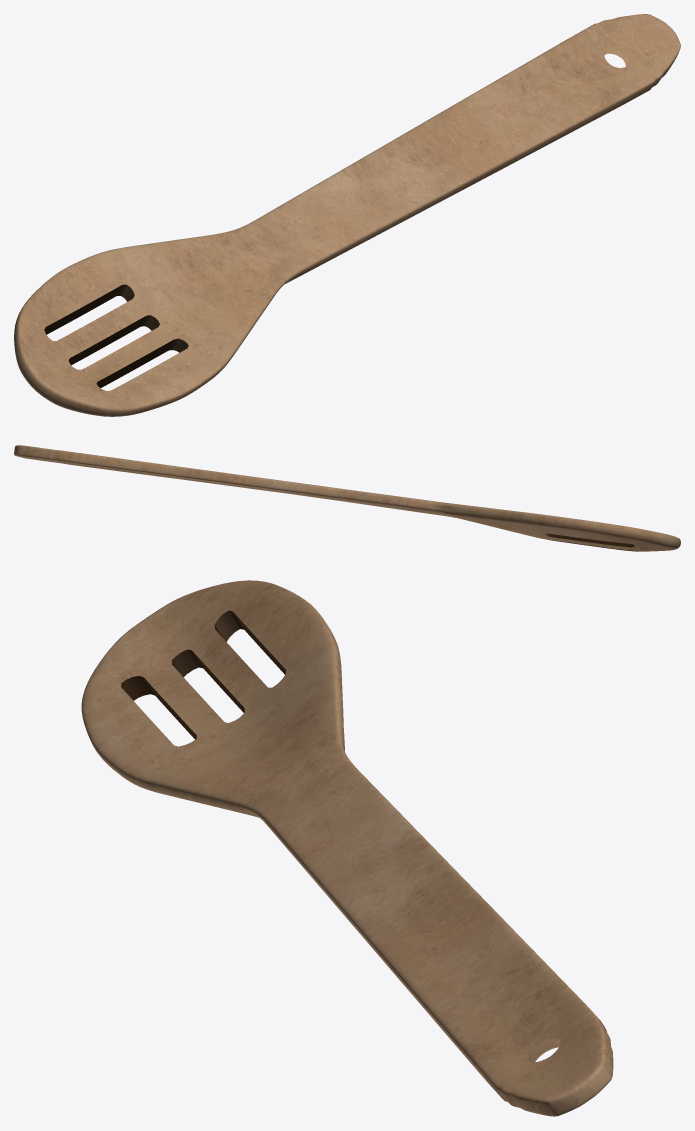
Rendered from wooden-spatula.glb.
3 renders of one model, top to bottom at view 1: azimuth 30°, elevation 25°; view 2: azimuth 150°, elevation 25°; view 3: azimuth 270°, elevation 25°, orthographic. The views are drawn at different scales.
Visible parts, largest first — view 1: SpatulaHoles_SpatulaHoles_0; view 2: SpatulaHoles_SpatulaHoles_0; view 3: SpatulaHoles_SpatulaHoles_0.
Boxes of the visible parts, x1=… form: SpatulaHoles_SpatulaHoles_0: x1=14, y1=14, x2=680, y2=416; SpatulaHoles_SpatulaHoles_0: x1=14, y1=445, x2=680, y2=551; SpatulaHoles_SpatulaHoles_0: x1=81, y1=580, x2=613, y2=1116.
Size of the model in its own units: 0.3744 by 0.0477 by 0.1537.
1 material, 1 textured.
